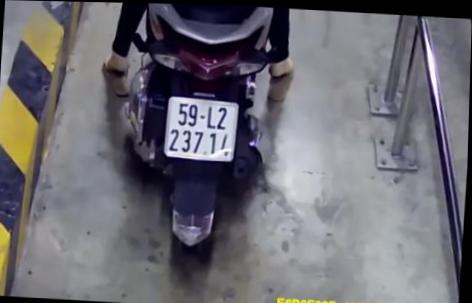LP: (164, 94, 240, 162)
